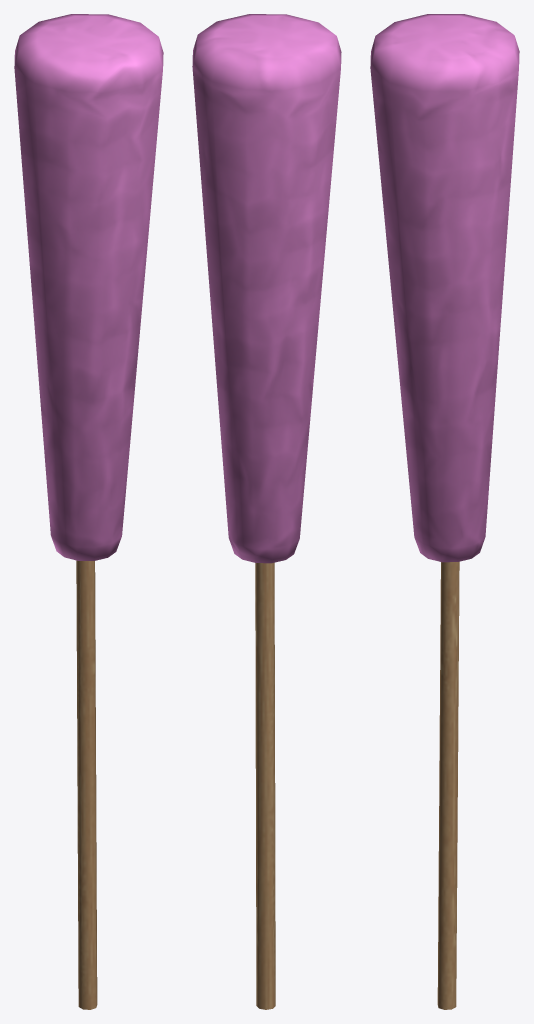
Rendered from BuffetCandy01_10.FBX.
3 renders of one model, left to right at view 1: azimuth 30°, elevation 25°; view 2: azimuth 150°, elevation 25°; view 3: azimuth 270°, elevation 25°, orthographic.
Parts seen in each view (by area): view 1: BuffetCandy01_10; view 2: BuffetCandy01_10; view 3: BuffetCandy01_10.
Part boxes in pixels (x1,y1,x2,y2): BuffetCandy01_10: (14,14,163,1009); BuffetCandy01_10: (192,14,341,1009); BuffetCandy01_10: (370,14,519,1009).
Size of what is drawn, in the model's own units: 0.0371 by 0.2656 by 0.0371.
